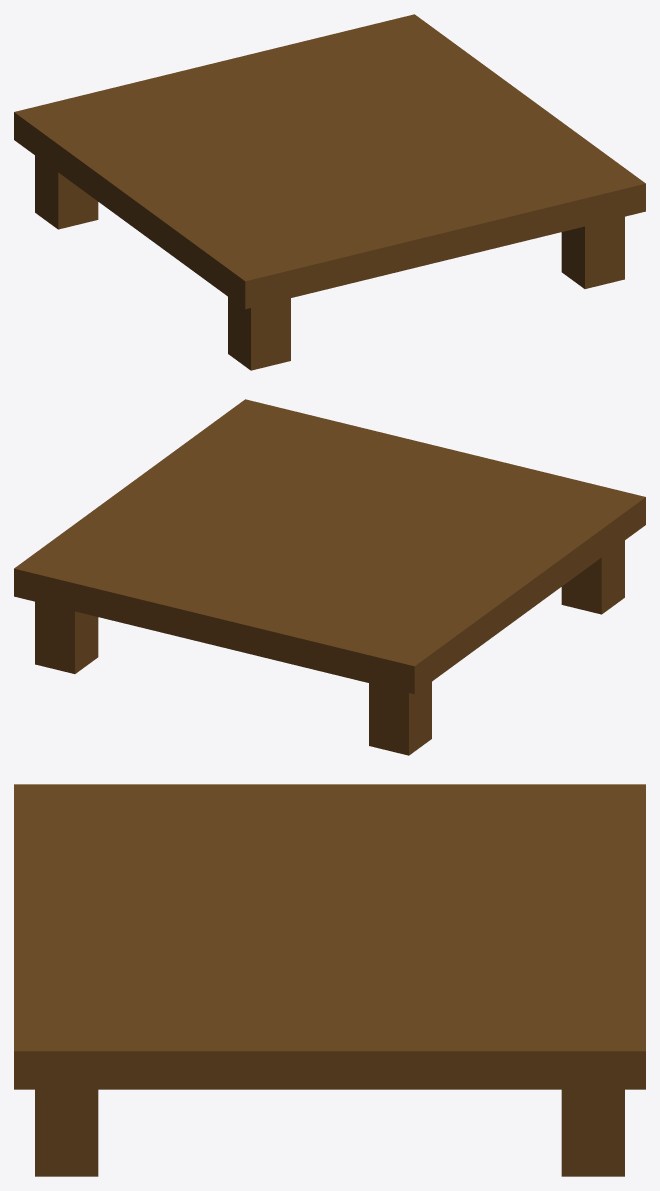
File: BananaTable.fbx
The picture shows the model from 3 angles, top to bottom: view 1: azimuth 30°, elevation 25°; view 2: azimuth 150°, elevation 25°; view 3: azimuth 270°, elevation 25°; orthographic projection. The views are drawn at different scales.
Visible parts, largest first — view 1: Cube; view 2: Cube; view 3: Cube.
Part boxes in pixels (x1,y1,x2,y2): Cube: (14, 14, 645, 370); Cube: (14, 399, 645, 755); Cube: (14, 784, 645, 1176).
Bounding box in the file's own units: 300 × 300 × 70.32.
